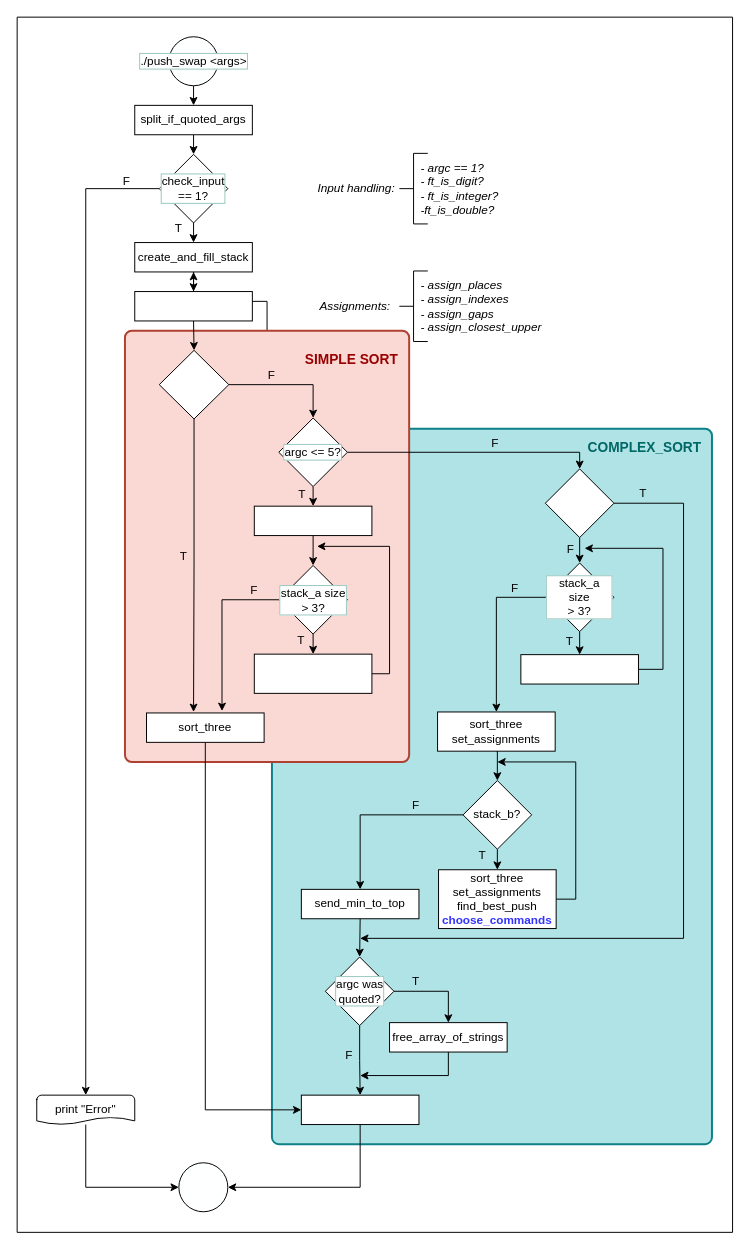
This 750x1250 diagram has some shape labels left out. Each missing label, with the box of its shape:
argc <= 3?: (158, 349, 229, 419)
free_stacks: (300, 1094, 419, 1125)
is_sorted?: (544, 468, 614, 538)
push to b: (520, 654, 638, 684)
send_min_to_top push to b: (253, 653, 372, 693)
set_assignments: (134, 291, 252, 321)
sort_few: (253, 505, 372, 536)
